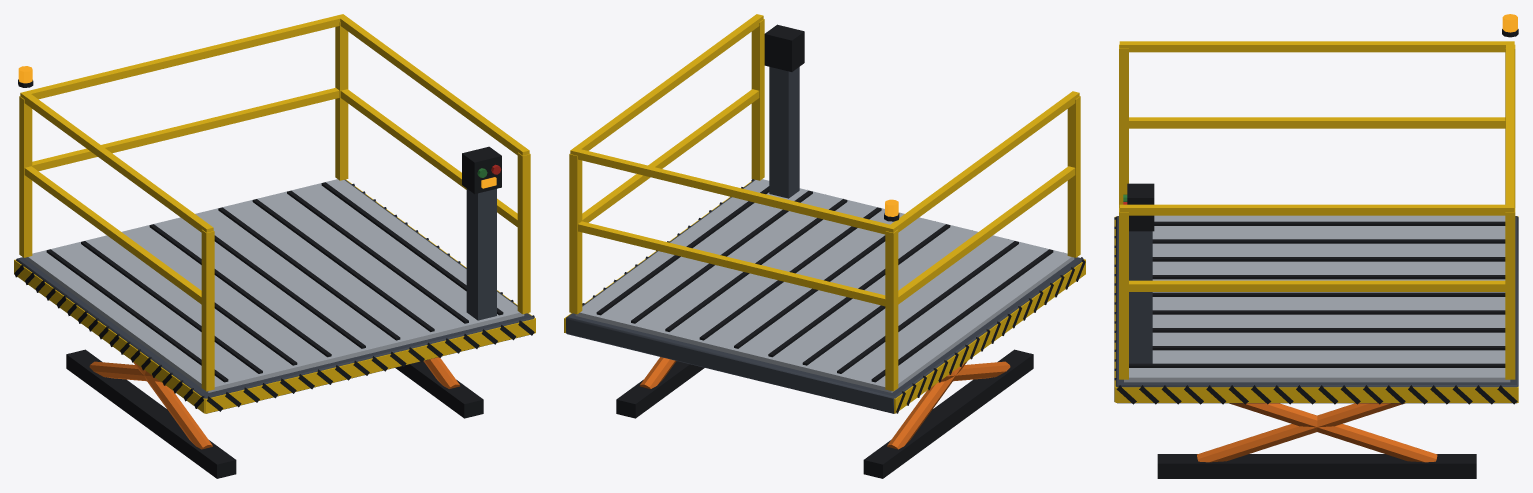
Rendered from loader_cargo_elevator_platform.glb.
3 renders of one model, left to right at view 1: azimuth 30°, elevation 25°; view 2: azimuth 150°, elevation 25°; view 3: azimuth 270°, elevation 25°, orthographic. The views are drawn at different scales.
Parts seen in each view (by area): view 1: loader_cargo_elevator_platform; view 2: loader_cargo_elevator_platform; view 3: loader_cargo_elevator_platform.
Part boxes in pixels (x1,y1,x2,y2): loader_cargo_elevator_platform: (14,14,535,478); loader_cargo_elevator_platform: (564,14,1085,478); loader_cargo_elevator_platform: (1114,14,1518,478).
Size of the model in its own units: 2.42 by 2.05 by 2.41.
